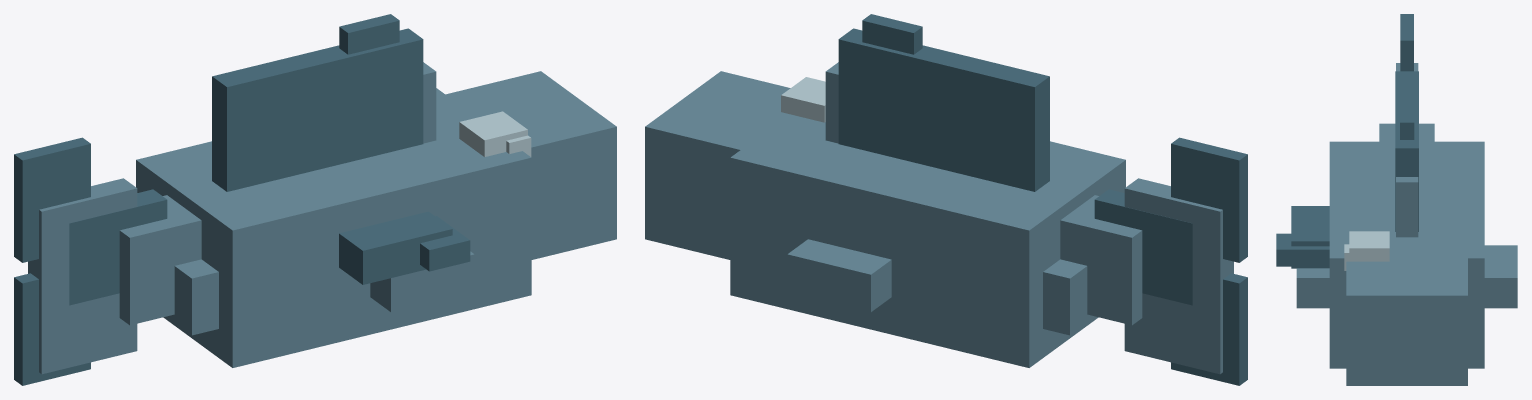
Rendered from fish_harbor_herring.glb.
3 views of the same model, side by side, from view 1: azimuth 30°, elevation 25°; view 2: azimuth 150°, elevation 25°; view 3: azimuth 270°, elevation 25° (orthographic). The views are drawn at different scales.
Parts seen in each view (by area): view 1: FishArt_body, FishArt_dorsal, FishArt_tail, FishArt_pectoral, FishArt_eye; view 2: FishArt_body, FishArt_dorsal, FishArt_tail, FishArt_eye; view 3: FishArt_body, FishArt_pectoral, FishArt_dorsal, FishArt_eye, FishArt_tail.
Part boxes in pixels (x1,y1,x2,y2): FishArt_body: (28,62,616,374); FishArt_dorsal: (212,14,423,191); FishArt_tail: (14,137,167,385); FishArt_pectoral: (339,211,470,284); FishArt_eye: (459,111,531,156); FishArt_body: (645,62,1233,374); FishArt_dorsal: (838,14,1049,191); FishArt_tail: (1094,137,1247,385); FishArt_eye: (781,77,825,122); FishArt_body: (1296,63,1517,385); FishArt_pectoral: (1276,206,1329,268); FishArt_dorsal: (1395,71,1418,231); FishArt_eye: (1344,231,1389,270); FishArt_tail: (1400,14,1413,71).
Size of the model in its own units: 0.3091 by 0.1442 by 0.1439.
